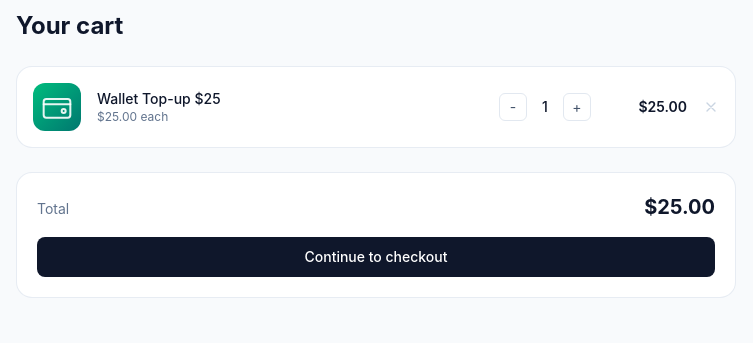
Test: CartPage › shows an error message when session creation fails
Click the button "Continue to checkout" at (376, 257), box [37,237,715,277]
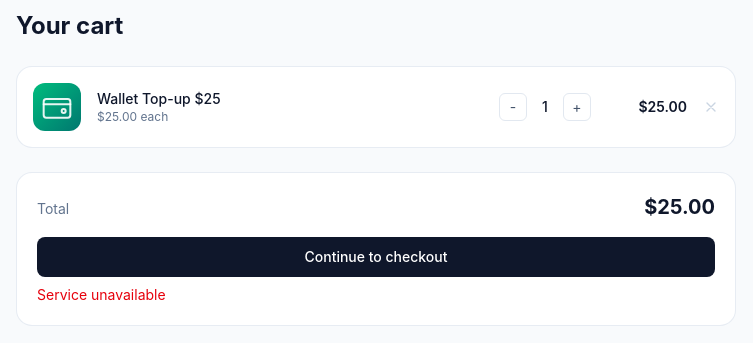
Expected: the text "Service unavailable" is shown, [37,286,166,303]
